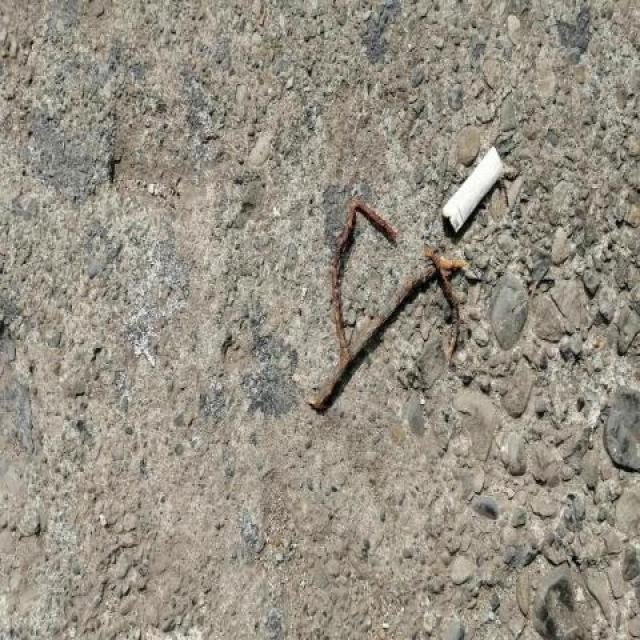non-organic waste: (438, 140, 506, 247)
